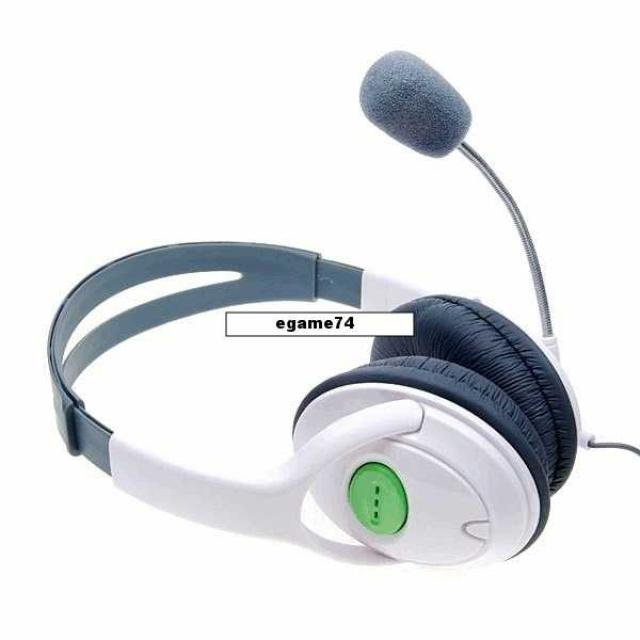microphone: (353, 38, 508, 166)
